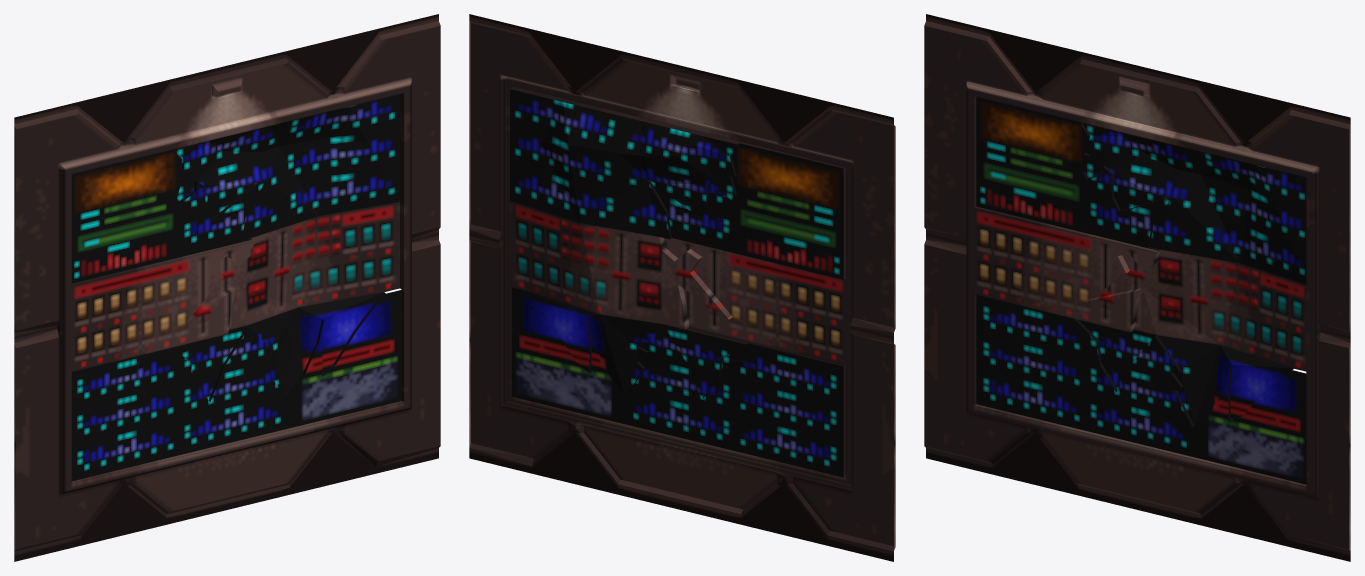
File: eng1_6d.fbx
The picture shows the model from 3 angles, left to right: view 1: azimuth 30°, elevation 25°; view 2: azimuth 150°, elevation 25°; view 3: azimuth 330°, elevation 25°; orthographic projection.
Parts seen in each view (by area): view 1: eng1_6_mesh; view 2: eng1_6_mesh; view 3: eng1_6_mesh.
Boxes of the visible parts, bbox=[...] form: eng1_6_mesh: bbox=[14, 14, 440, 561]; eng1_6_mesh: bbox=[469, 14, 895, 561]; eng1_6_mesh: bbox=[924, 14, 1350, 561].
Size of the model in its own units: 256 by 256 by 10.
